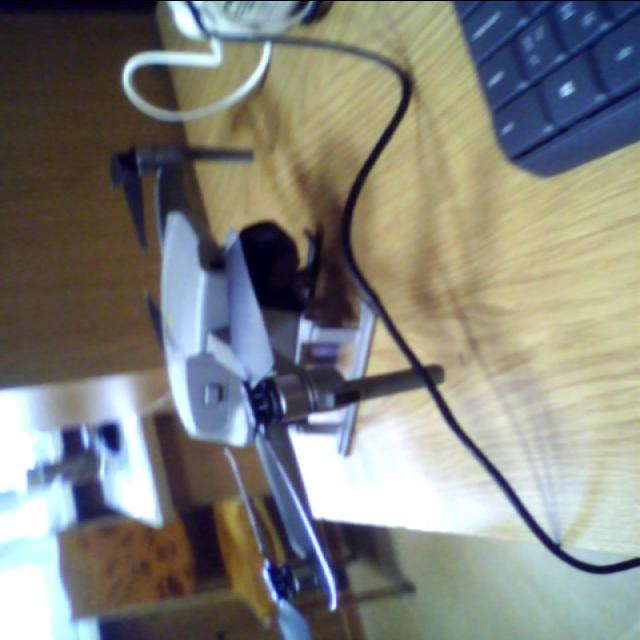drone: (94, 88, 428, 640)
